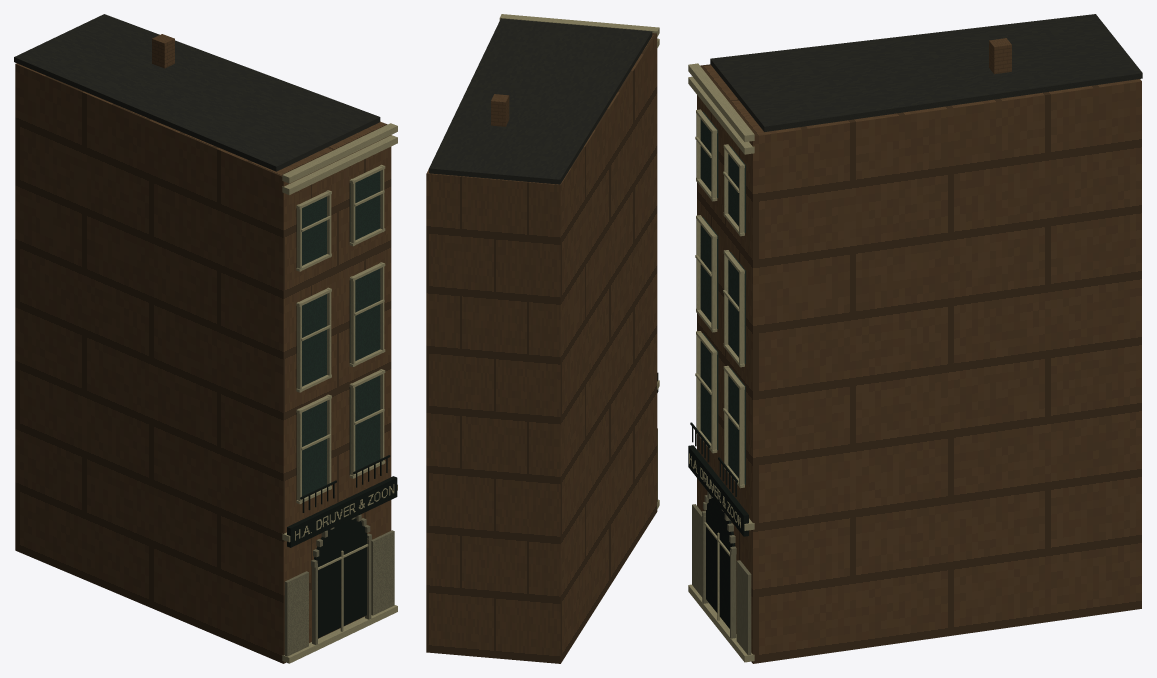
3 views of the same model, side by side, from view 1: azimuth 30°, elevation 25°; view 2: azimuth 150°, elevation 25°; view 3: azimuth 270°, elevation 25° (orthographic). The views are drawn at different scales.
Visible parts, largest first — view 1: nieuwehaven161-drijver-0, nieuwehaven161-drijver-5, nieuwehaven161-drijver-3, nieuwehaven161-drijver-2, nieuwehaven161-drijver-1, nieuwehaven161-drijver-4; view 2: nieuwehaven161-drijver-0, nieuwehaven161-drijver-5, nieuwehaven161-drijver-3; view 3: nieuwehaven161-drijver-0, nieuwehaven161-drijver-5, nieuwehaven161-drijver-3, nieuwehaven161-drijver-2, nieuwehaven161-drijver-1, nieuwehaven161-drijver-4.
Part boxes in pixels (x1,y1,x2,y2): nieuwehaven161-drijver-0: [15, 34, 391, 663]; nieuwehaven161-drijver-5: [14, 14, 380, 171]; nieuwehaven161-drijver-3: [282, 123, 397, 663]; nieuwehaven161-drijver-2: [296, 171, 380, 499]; nieuwehaven161-drijver-1: [287, 455, 397, 638]; nieuwehaven161-drijver-4: [284, 514, 394, 656]; nieuwehaven161-drijver-0: [426, 33, 657, 663]; nieuwehaven161-drijver-5: [429, 18, 652, 184]; nieuwehaven161-drijver-3: [499, 14, 659, 509]; nieuwehaven161-drijver-0: [697, 38, 1141, 663]; nieuwehaven161-drijver-5: [710, 14, 1142, 131]; nieuwehaven161-drijver-3: [688, 63, 754, 662]; nieuwehaven161-drijver-2: [700, 111, 745, 484]; nieuwehaven161-drijver-1: [688, 422, 748, 628]; nieuwehaven161-drijver-4: [692, 491, 751, 655].
Size of the model in its own units: 7.44 by 16.6 by 12.19.
Materials: 6 (6 with a texture image).
